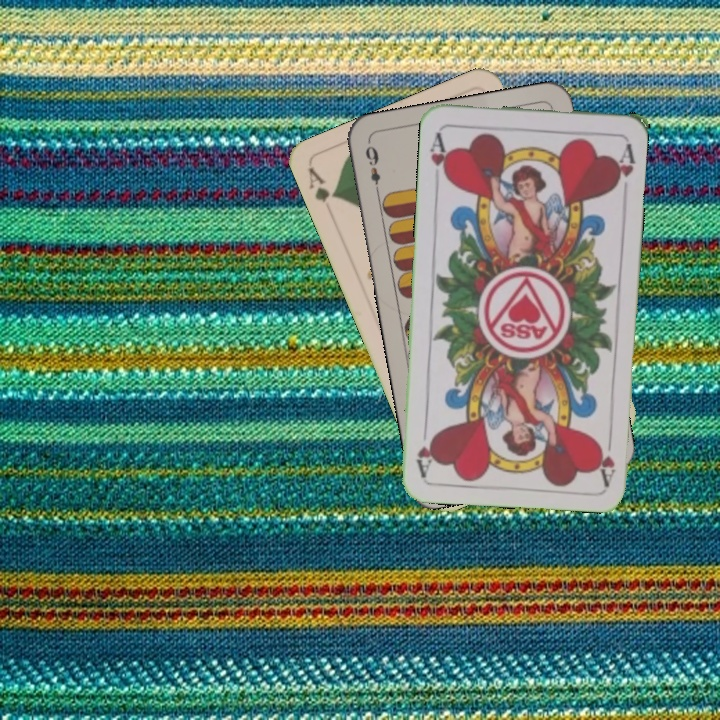E9: (361, 141, 383, 198)
GA: (304, 163, 339, 205)
HA: (425, 128, 452, 183), (594, 427, 618, 487)
